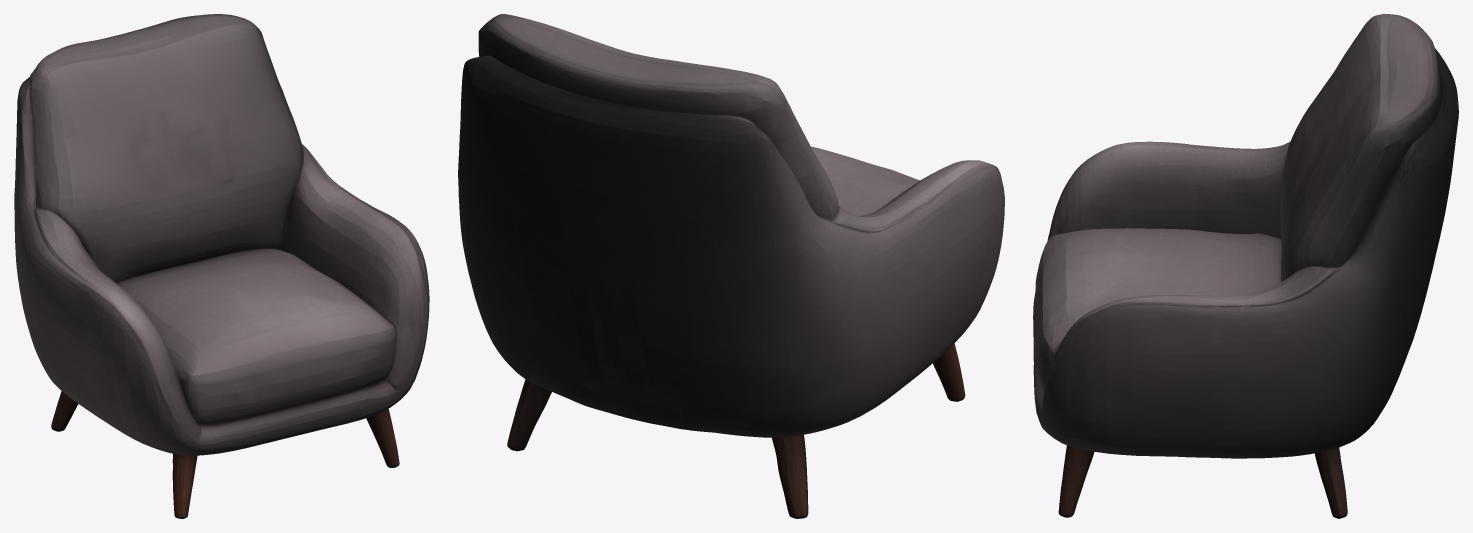
The model's file is chair-60k.glb.
The picture shows the model from 3 angles, left to right: view 1: azimuth 30°, elevation 25°; view 2: azimuth 150°, elevation 25°; view 3: azimuth 270°, elevation 25°; orthographic projection. The views are drawn at different scales.
Parts seen in each view (by area): view 1: world; view 2: world; view 3: world.
Part boxes in pixels (<box>): world: <box>14,14,429,518</box>; world: <box>458,14,1004,518</box>; world: <box>1033,14,1458,518</box>.
Bounding box in the file's own units: 0.9492 × 0.9994 × 0.9899.
Materials: 1 (1 with a texture image).
